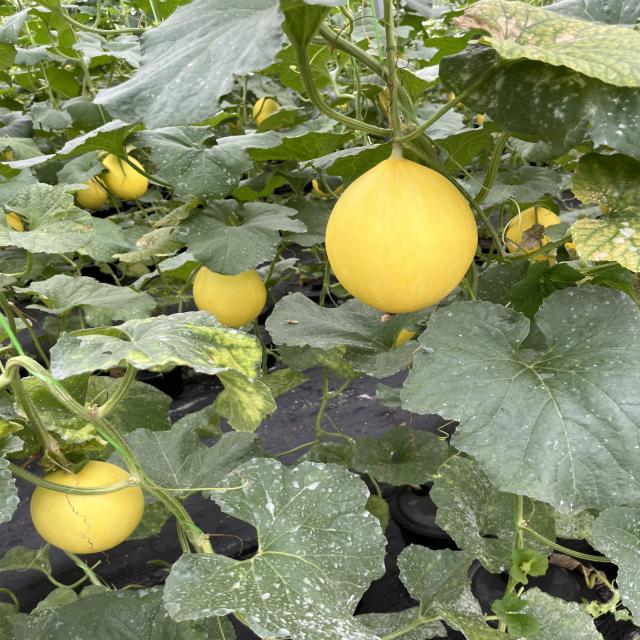alternaria leaf blight: (61, 313, 277, 438), (452, 0, 640, 93), (575, 156, 640, 266), (13, 183, 98, 252), (117, 226, 182, 261)
powdery mildew: (413, 293, 640, 505), (167, 449, 370, 640), (439, 454, 555, 573), (398, 545, 506, 640), (277, 297, 411, 371), (140, 127, 252, 198), (189, 200, 289, 269), (589, 506, 640, 614), (521, 589, 603, 640)
